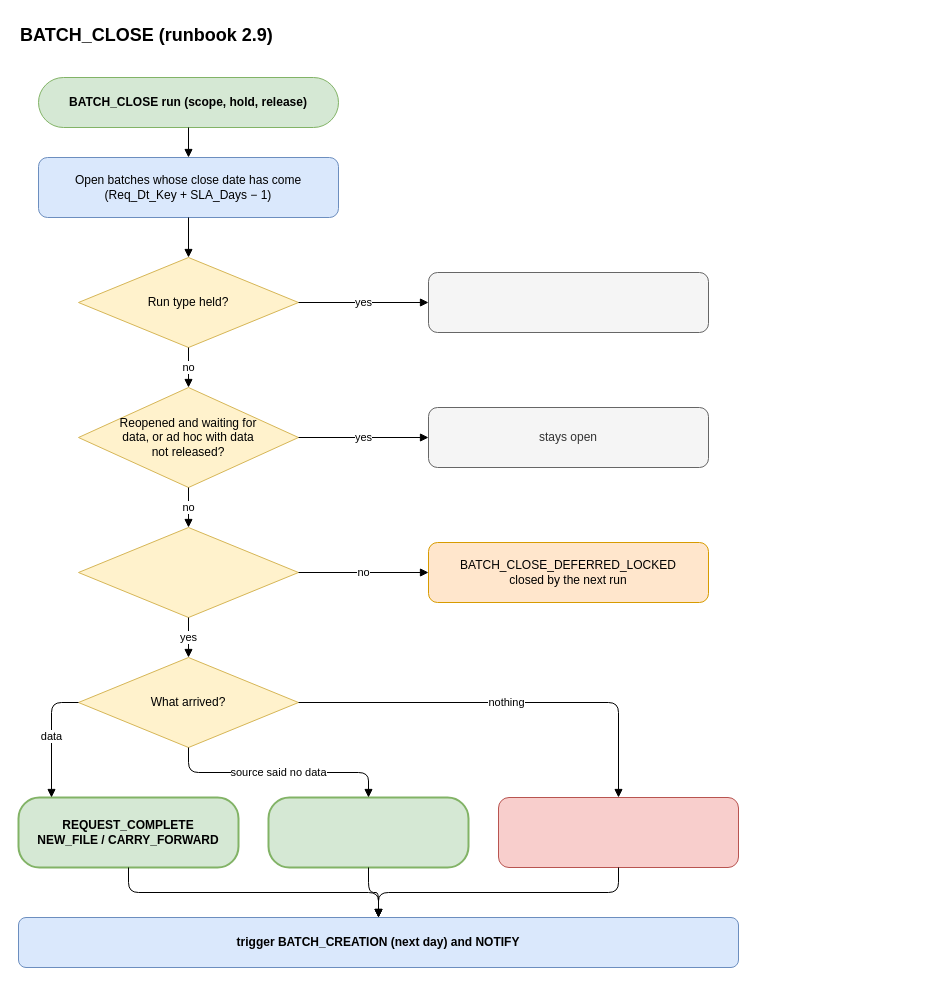
This 935x985 diagram has some shape labels left out. Here are the shapes that lost their labels. From the top down, the centre of each, then its label:
point 568,302: stays open (logged)
point 188,572: Batch free?
point 368,832: DATA_NOT_PROVIDED NO_DATA
point 618,832: DATA_NOT_PROVIDED MISSING + SOURCE_MISSING_AT_CLOSE (emailed)
